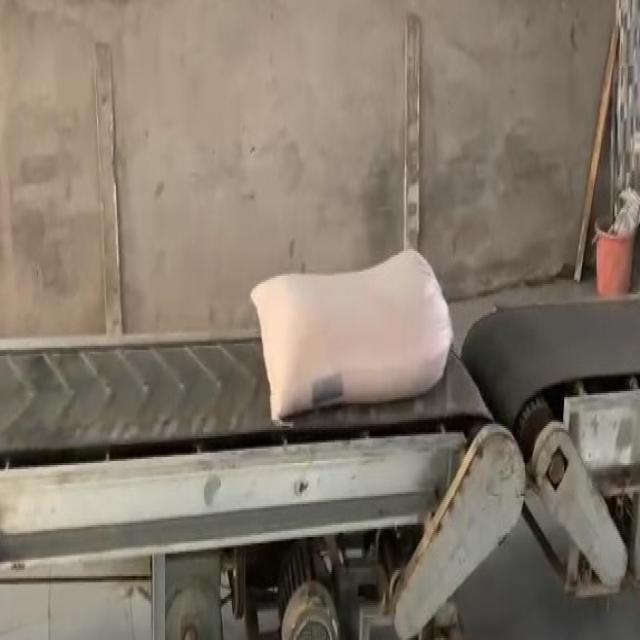gunny_bag: (251, 249, 454, 420)
